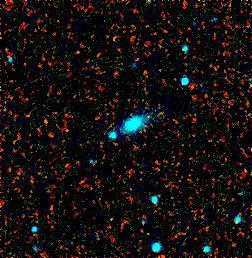star: (131, 98, 161, 128)
